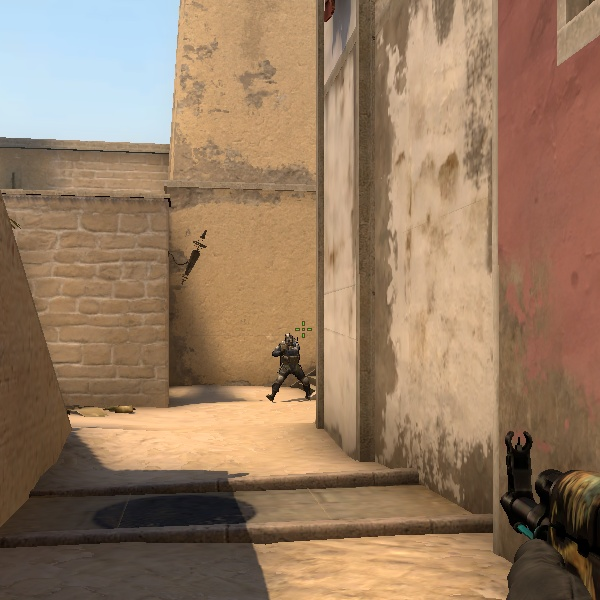ct_body: (262, 331, 316, 402)
ct_head: (282, 331, 300, 349)
